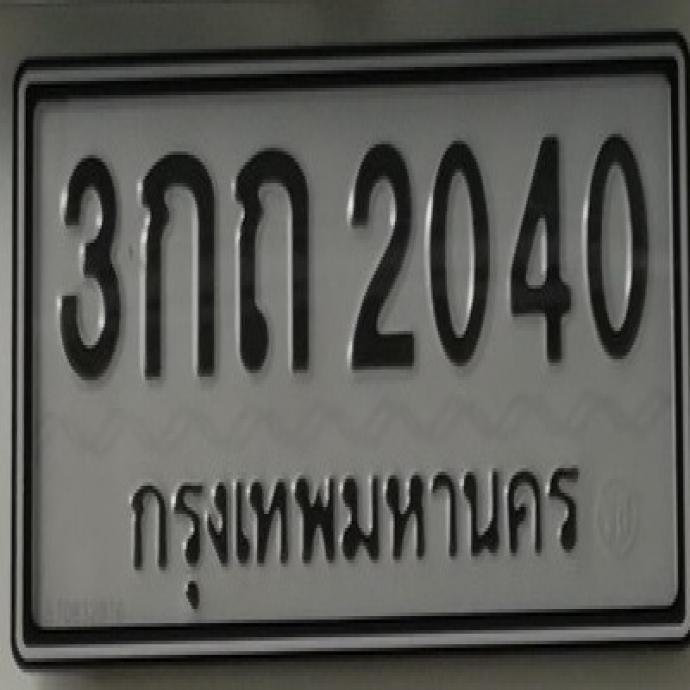0: (428, 134, 490, 365), (585, 130, 647, 359)
2: (349, 140, 413, 370)
3: (58, 150, 120, 379)
4: (508, 129, 571, 364)
A01: (141, 146, 216, 379)
A22: (234, 143, 311, 374)
BKK: (117, 443, 589, 608)
